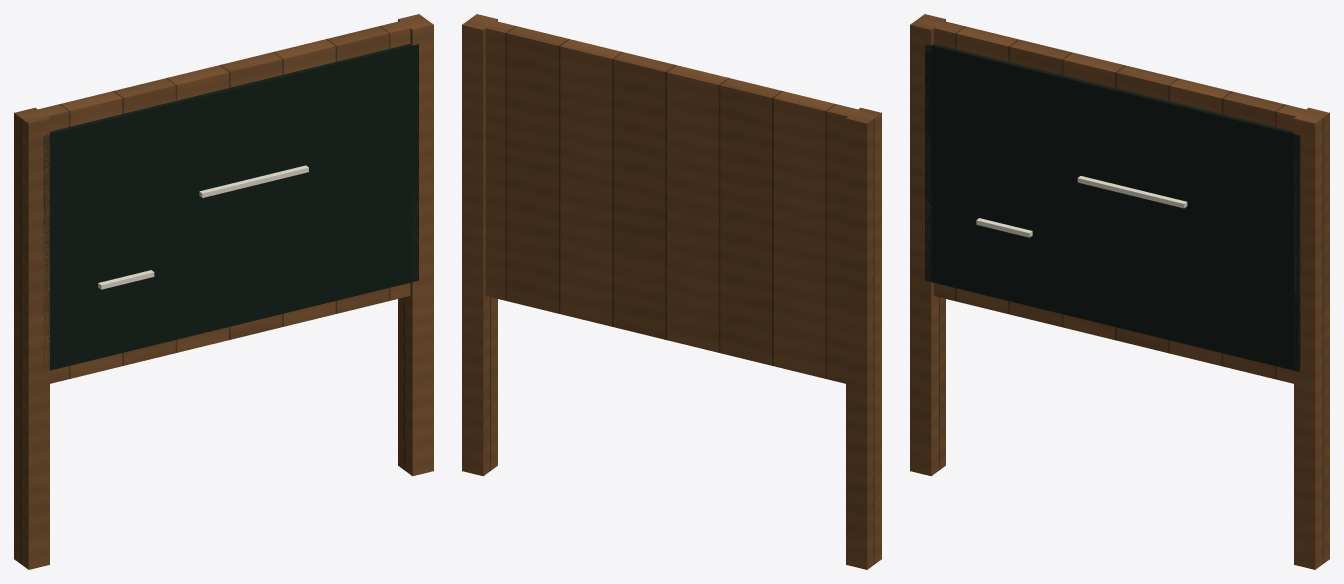
File: tablica.glb
3 renders of one model, left to right at view 1: azimuth 30°, elevation 25°; view 2: azimuth 150°, elevation 25°; view 3: azimuth 330°, elevation 25°, orthographic.
Parts seen in each view (by area): view 1: tablica; view 2: tablica; view 3: tablica.
Boxes of the visible parts, x1,y1,x2,y2 form: tablica: [14, 14, 433, 569]; tablica: [462, 14, 881, 569]; tablica: [910, 14, 1329, 569].
Size of the model in its own units: 1.9 by 2 by 0.145.
3 materials, 1 textured.
